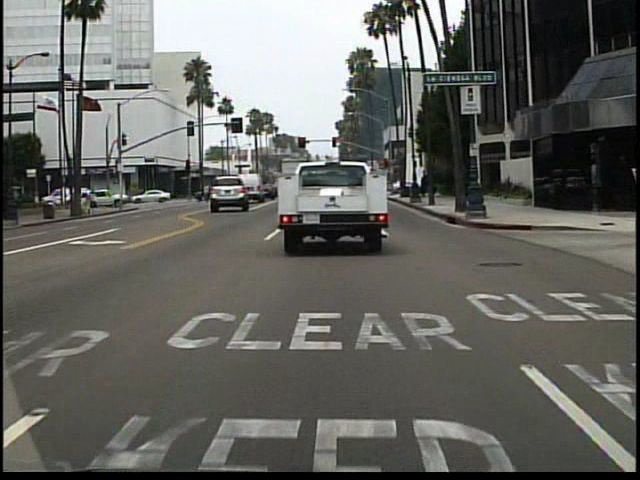person: (87, 187, 100, 213)
